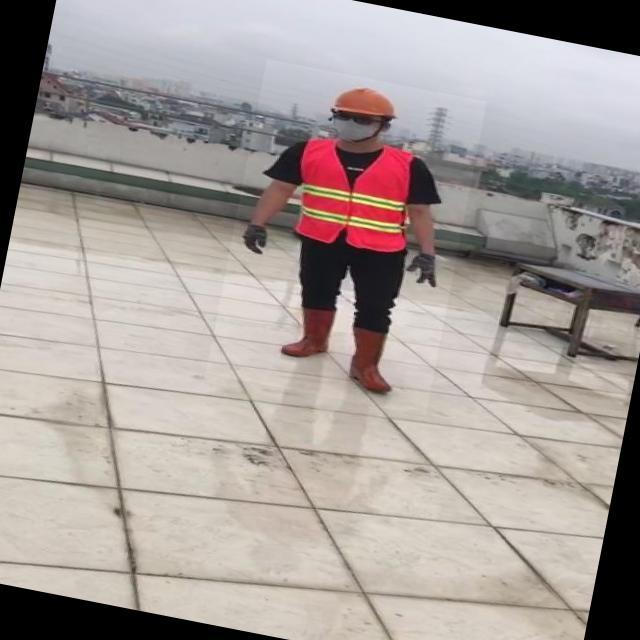Gloves: (402, 250, 441, 288), (238, 221, 273, 255)
Helmet: (328, 78, 405, 125)
Human: (206, 59, 487, 416)
Safety Boot: (338, 325, 403, 397), (279, 301, 341, 365)
Safety Vest: (286, 134, 423, 259)
